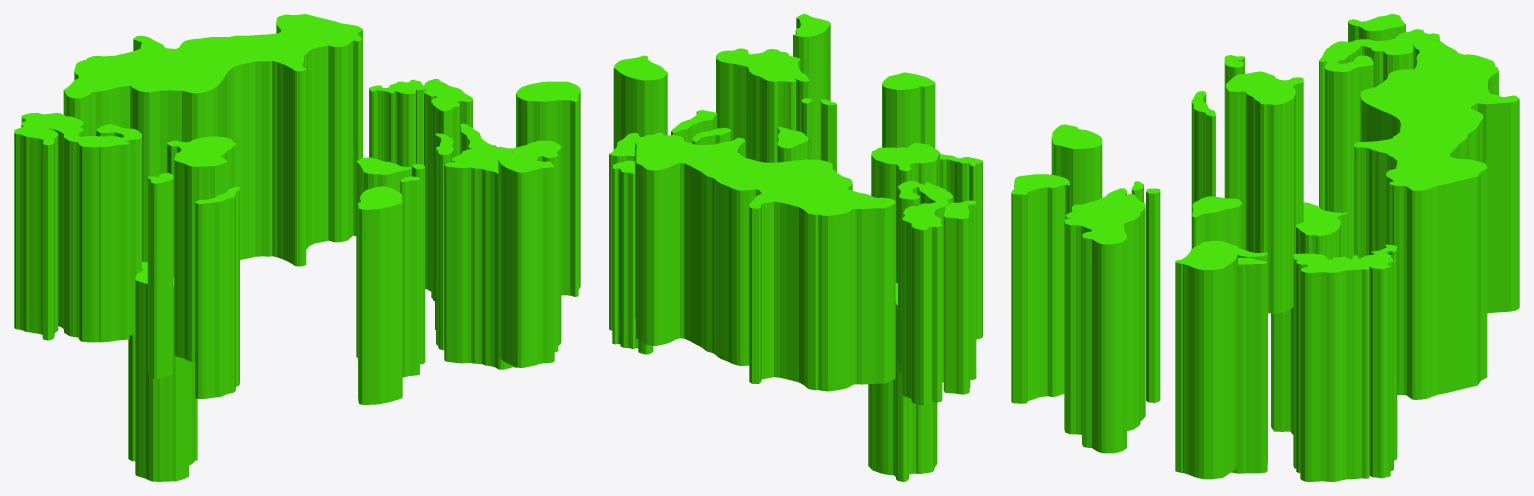
Rendered from woods_area1_000.dae.
3 renders of one model, left to right at view 1: azimuth 30°, elevation 25°; view 2: azimuth 150°, elevation 25°; view 3: azimuth 270°, elevation 25°, orthographic. The views are drawn at different scales.
Visible parts, largest first — view 1: Object, Object_004, Object_014, Object_013, Object_015, Object_005, Object_017, Object_002, Object_001, Object_016, Object_003, Object_007 (+5 smaller); view 2: Object, Object_004, Object_014, Object_005, Object_017, Object_006, Object_016, Object_015, Object_001, Object_013, Object_003, Object_007 (+6 smaller); view 3: Object, Object_014, Object_007, Object_016, Object_001, Object_013, Object_004, Object_006, Object_008, Object_017, Object_015, Object_011 (+4 smaller).
Part boxes in pixels (x1,y1,x2,y2): Object: [63, 14, 362, 266]; Object_004: [21, 112, 141, 342]; Object_014: [444, 140, 561, 369]; Object_013: [498, 150, 554, 367]; Object_015: [358, 186, 402, 404]; Object_005: [14, 124, 58, 340]; Object_017: [128, 261, 197, 481]; Object_002: [195, 186, 239, 398]; Object_001: [167, 136, 236, 361]; Object_016: [516, 81, 580, 296]; Object_003: [147, 173, 173, 378]; Object_007: [416, 79, 472, 300]; Object: [635, 132, 895, 391]; Object_004: [898, 181, 953, 405]; Object_014: [716, 48, 809, 162]; Object_005: [943, 200, 976, 394]; Object_017: [868, 283, 937, 481]; Object_006: [612, 160, 653, 354]; Object_016: [613, 55, 667, 149]; Object_015: [882, 72, 935, 148]; Object_001: [871, 143, 939, 282]; Object_013: [793, 14, 830, 159]; Object_003: [956, 157, 982, 339]; Object_007: [609, 133, 651, 330]; Object: [1354, 39, 1519, 399]; Object_014: [1064, 188, 1145, 453]; Object_007: [1293, 253, 1369, 481]; Object_016: [1175, 241, 1237, 479]; Object_001: [1226, 71, 1303, 313]; Object_013: [1011, 174, 1069, 403]; Object_004: [1319, 29, 1439, 259]; Object_006: [1360, 244, 1397, 478]; Object_008: [1231, 258, 1267, 473]; Object_017: [1271, 202, 1348, 434]; Object_015: [1051, 124, 1102, 212]; Object_011: [1146, 188, 1160, 402].
Bounding box in the file's own units: 19.55 × 16.85 × 13.37.
